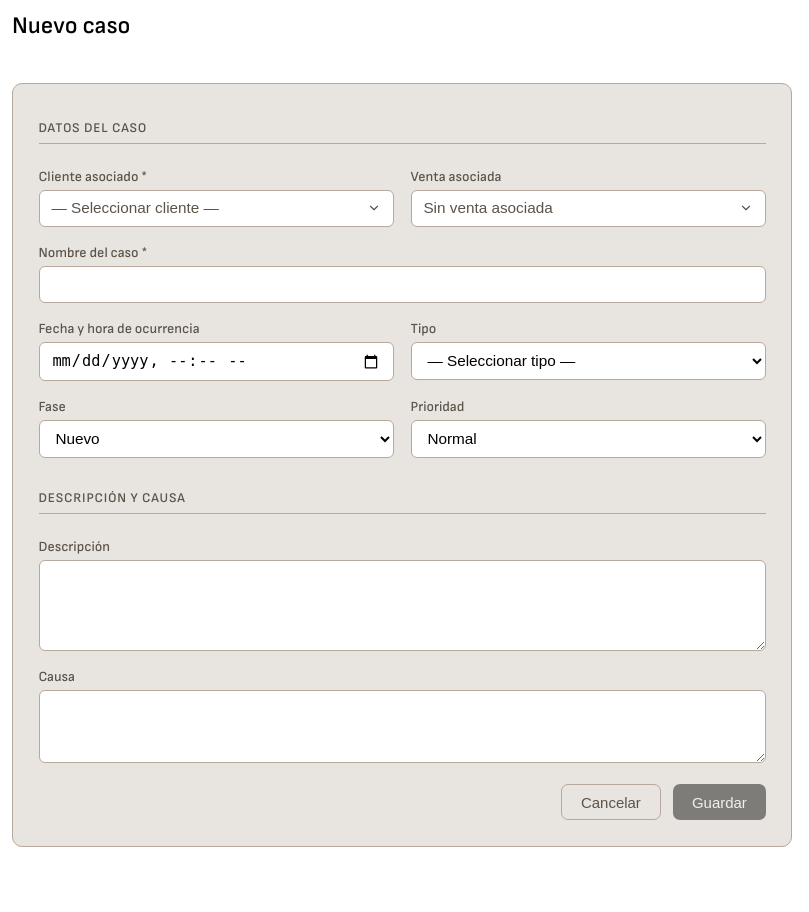
Test: CaseForm — new › shows supplier field only when type is WRONG_SETTLEMENT
The width and height of the screenshot is (809, 912).
Expected: the text "Proveedor asignado" is not shown
Select "Liquidación errónea" in the dropdown labelled "Tipo" at (588, 361), box [410,342,766,380]
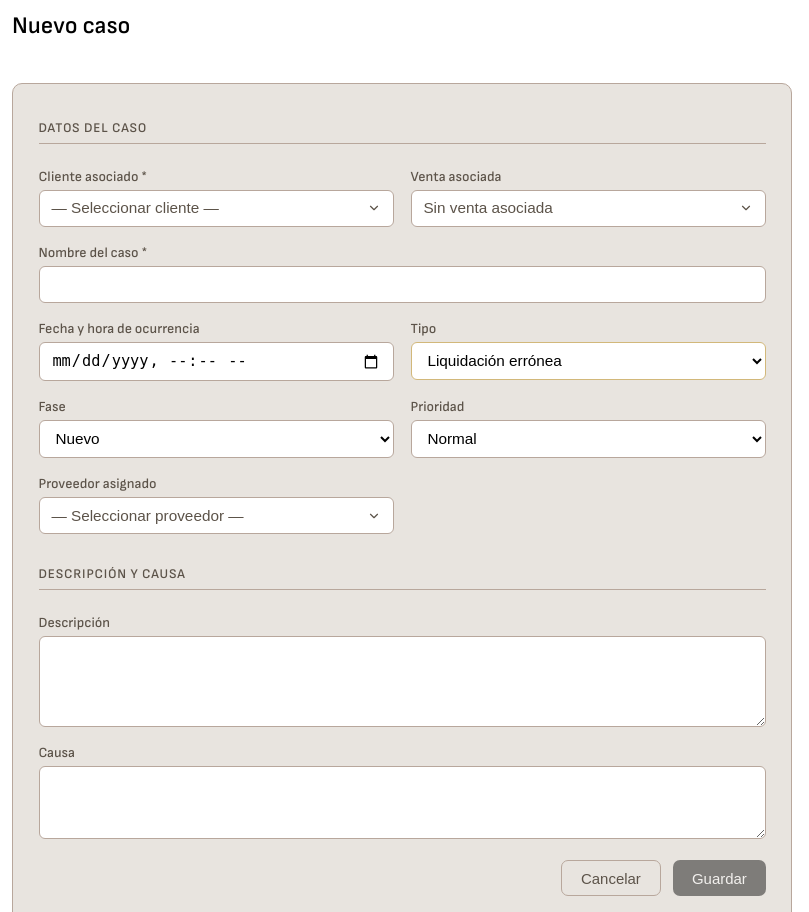
Expected: the text "Proveedor asignado" is shown, [38,475,156,492]
